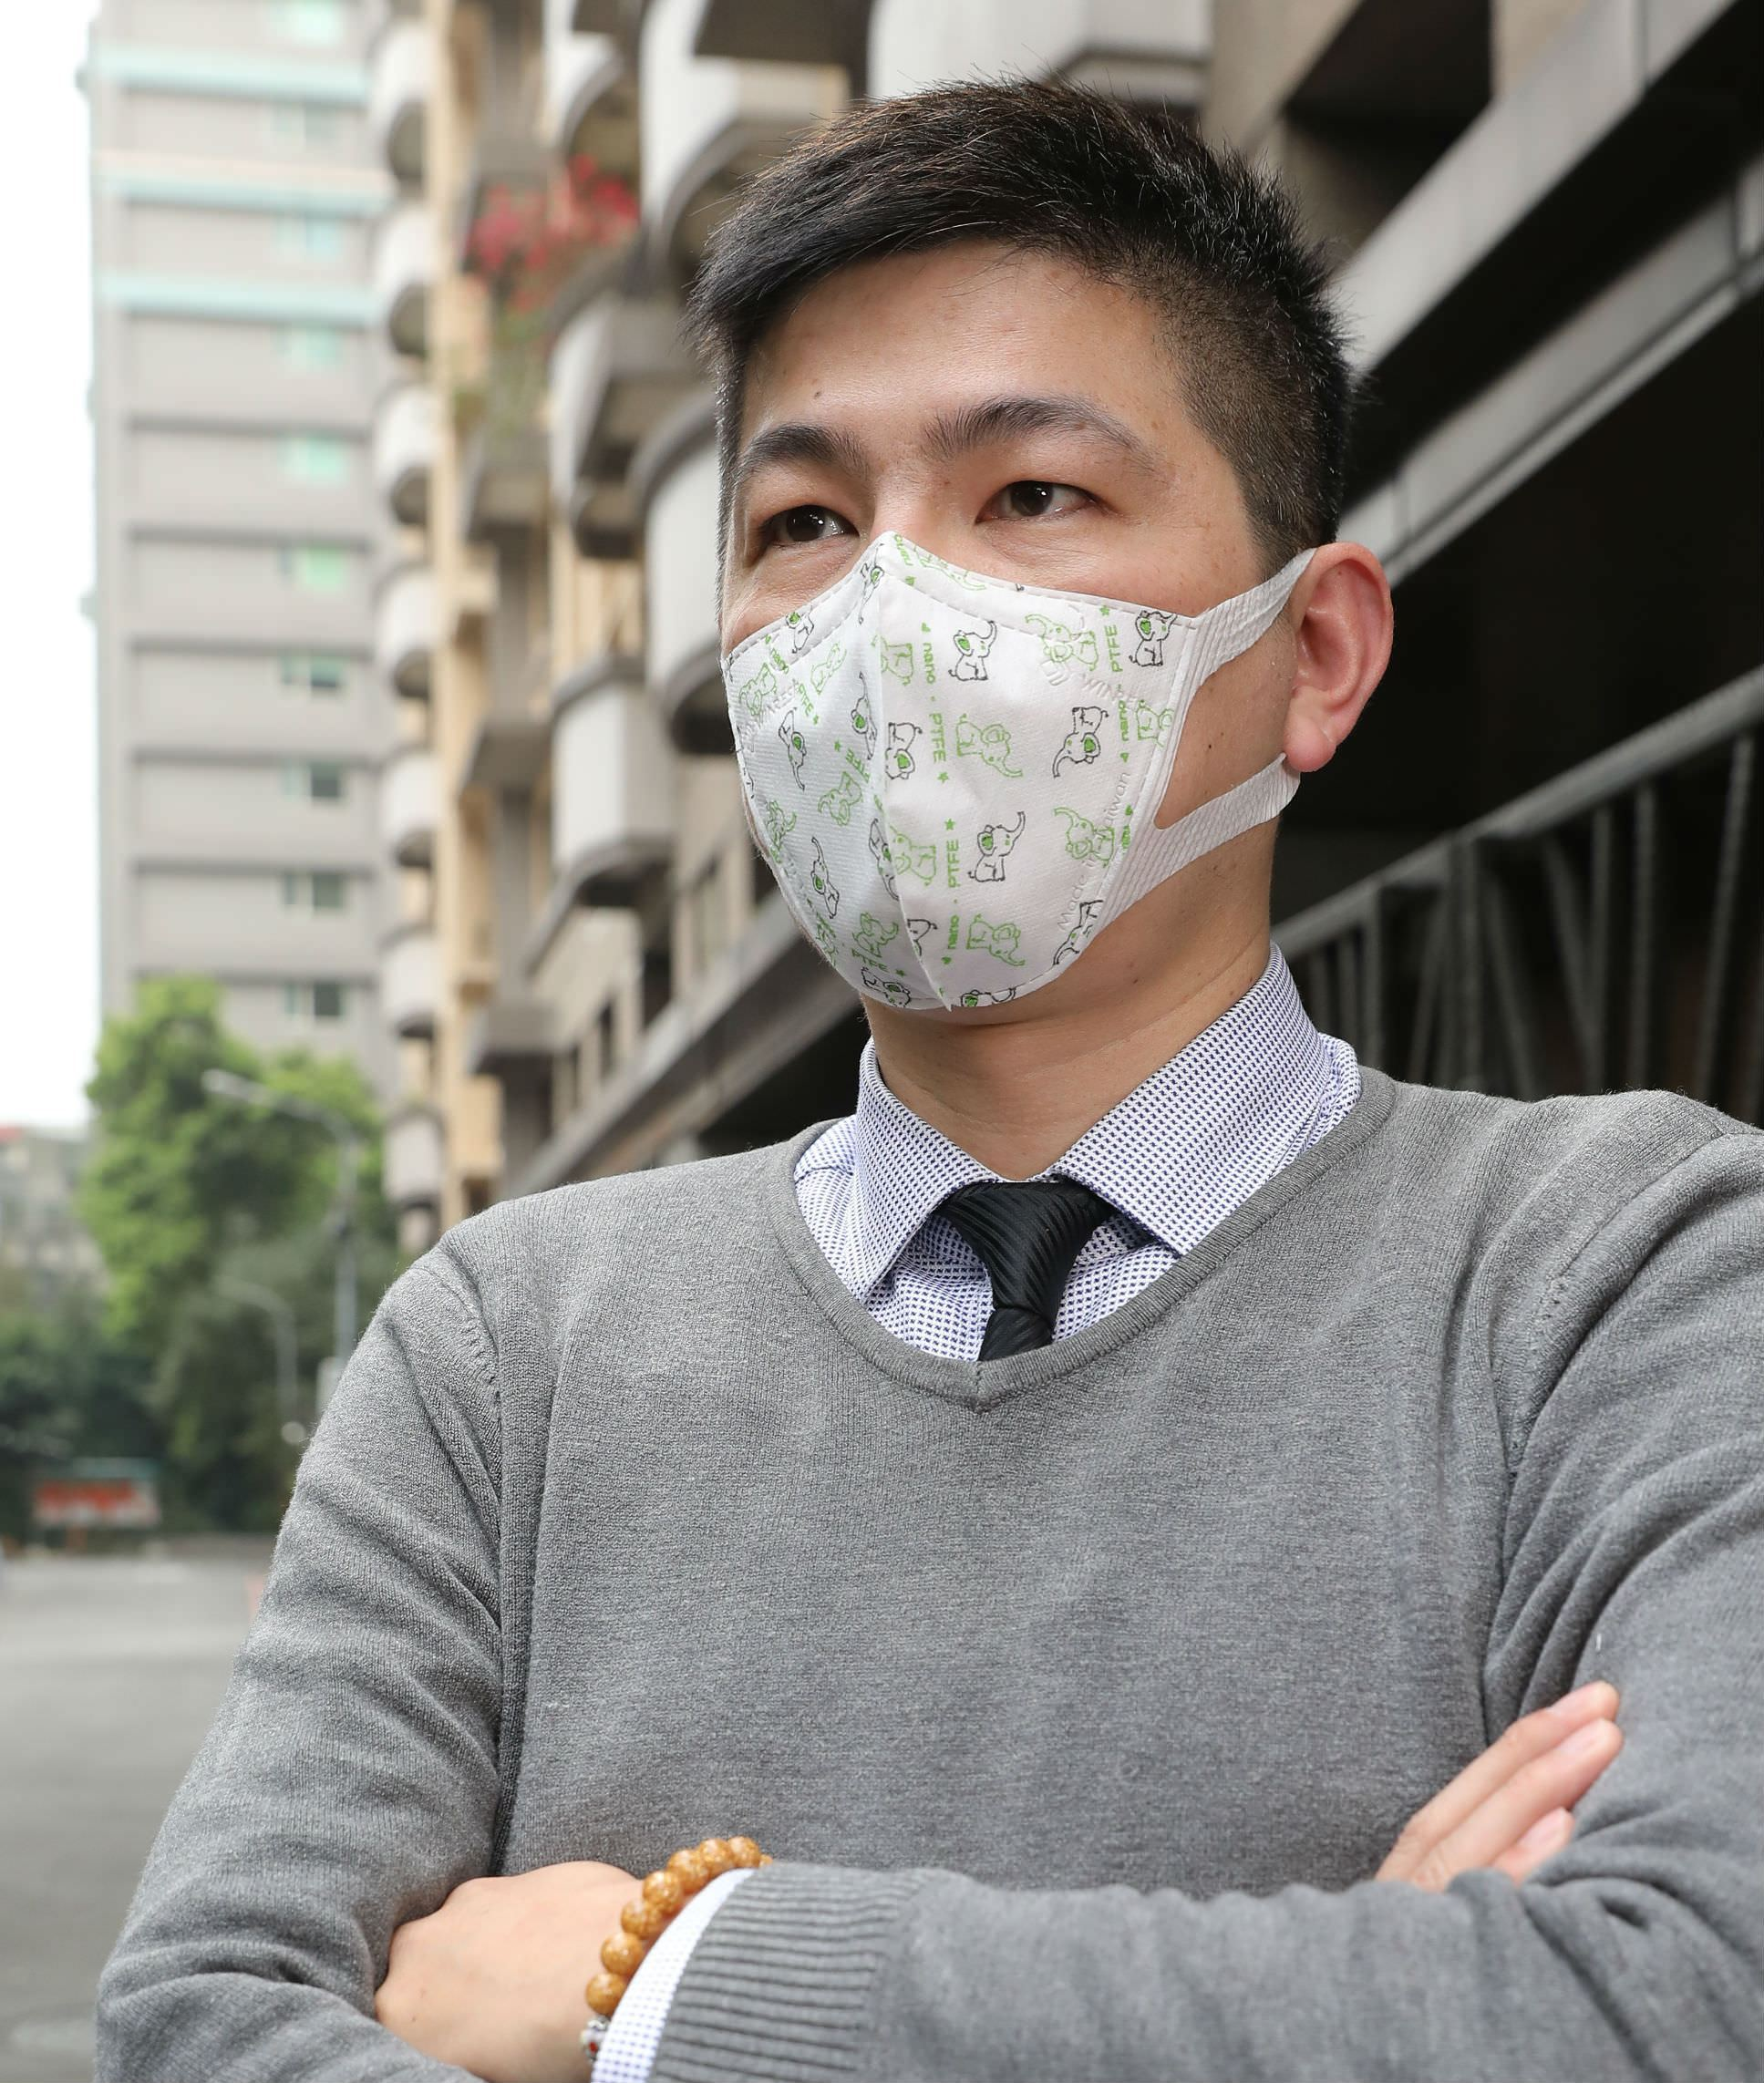mask: (728, 537, 1211, 1017)
